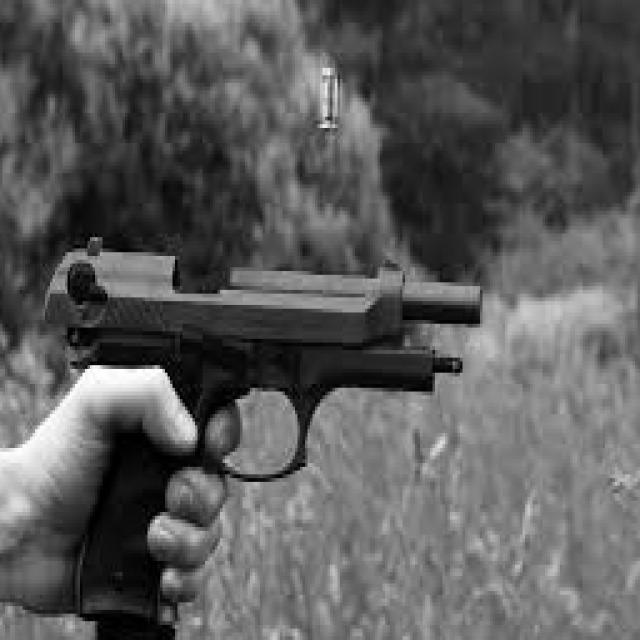gun: (36, 180, 493, 640)
